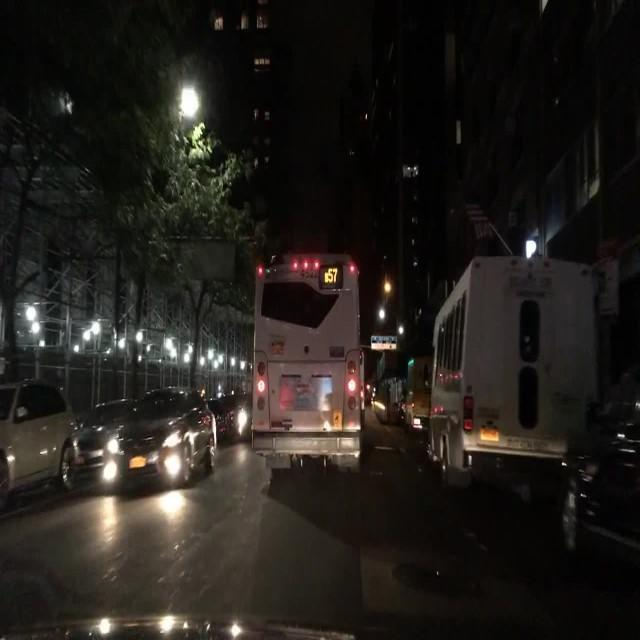normal: (402, 217, 640, 592), (249, 255, 359, 460), (74, 389, 219, 498), (0, 379, 88, 505)
